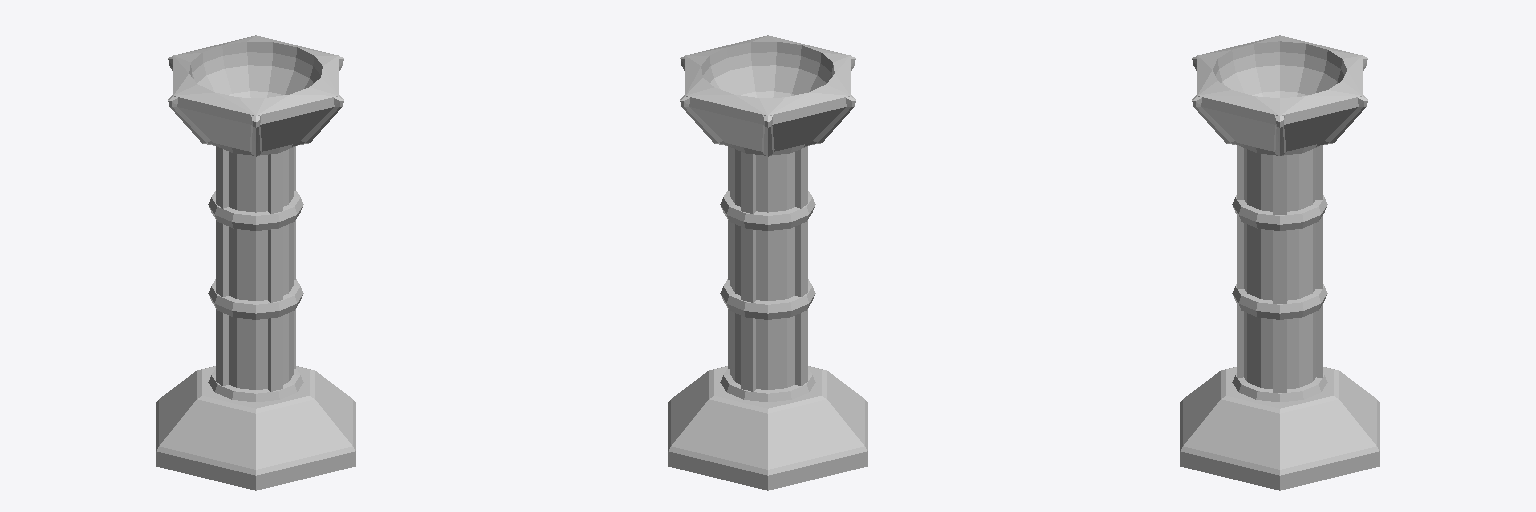
The model's file is orb_pedestal.obj.
3 views of the same model, side by side, from view 1: azimuth 30°, elevation 25°; view 2: azimuth 150°, elevation 25°; view 3: azimuth 270°, elevation 25° (orthographic).
Visible parts, largest first — view 1: polySurface29; view 2: polySurface29; view 3: polySurface29.
Part boxes in pixels (x1,y1,x2,y2): polySurface29: (156,35,355,490); polySurface29: (668,35,867,490); polySurface29: (1180,35,1379,490).
Size of the model in its own units: 0.6938 by 1.24 by 0.6009.